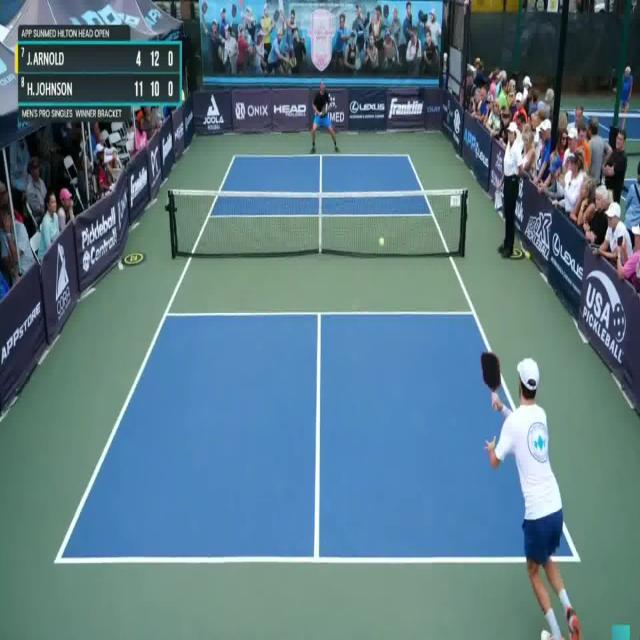Court: (52, 153, 581, 562)
ball: (376, 228, 390, 257)
